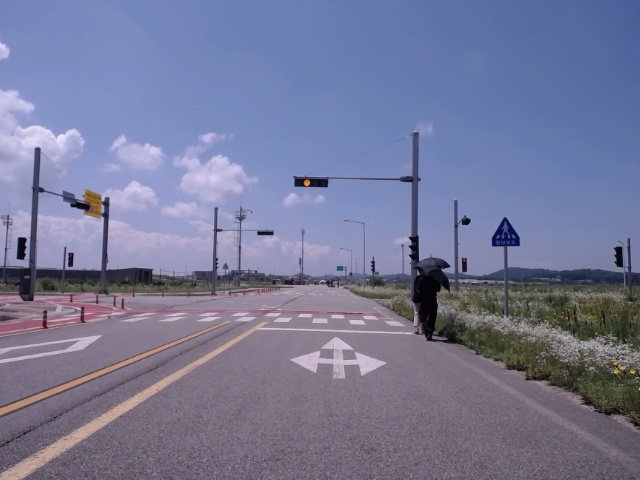orange_4: (295, 178, 328, 188)
